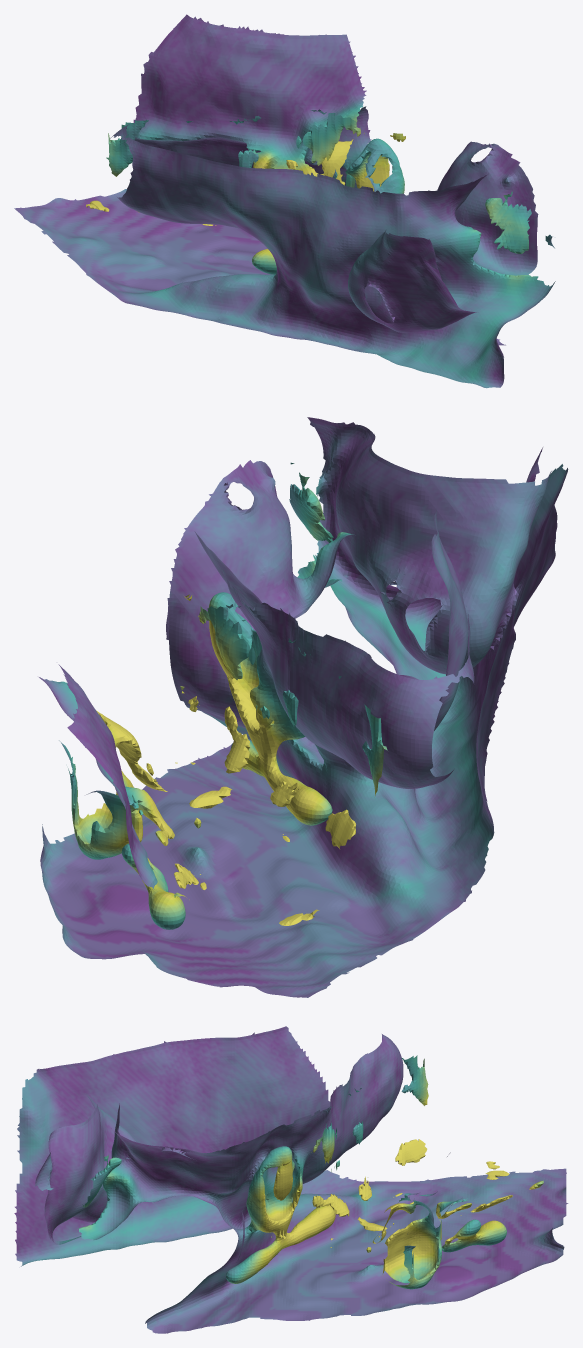
The model's file is crop1136_gap.glb.
3 views of the same model, one above another, from view 1: azimuth 30°, elevation 25°; view 2: azimuth 150°, elevation 25°; view 3: azimuth 270°, elevation 25° (orthographic). The views are drawn at different scales.
Visible parts, largest first — view 1: world; view 2: world; view 3: world.
Part boxes in pixels (x1=…): world: x1=14, y1=14, x2=555, y2=388; world: x1=39, y1=417, x2=568, y2=997; world: x1=14, y1=1026, x2=568, y2=1333.
Bounding box in the file's own units: 1695 × 1157 × 3135.
